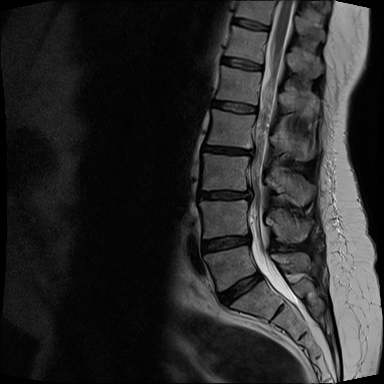Lumbar Disc Bulge (LDB): (195, 223, 256, 259), (186, 180, 256, 206), (197, 138, 258, 160)
Normal IVD: (210, 267, 265, 311), (204, 95, 263, 116), (214, 52, 266, 75), (228, 16, 271, 35)
Spinal Stenosis (SS): (239, 184, 255, 206), (240, 230, 255, 252), (242, 144, 259, 160)
